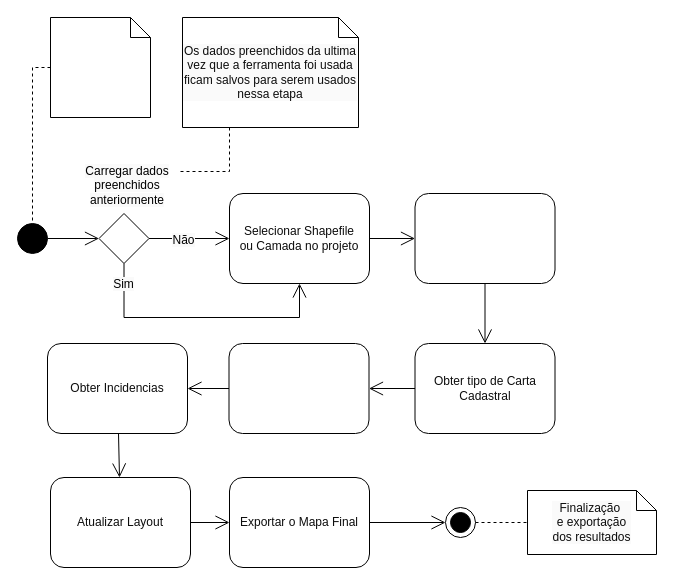
The diagram is 674 pixels wide and 585 high, and some of its shapes have lost their labels. Here are the shapes that lost their labels. From the top down, the box of each, then its label:
(50, 16, 150, 118): Abrir Ferramenta pelo ArcCatalog
(414, 192, 555, 284): Preencher o formulario com informações sobre a camada
(228, 342, 369, 434): Obter tipo de Zonemamento
